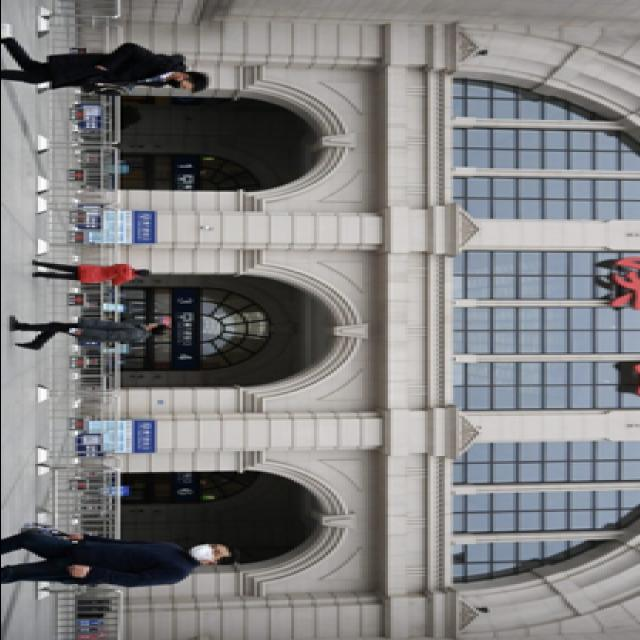with_mask: (190, 542, 228, 564), (165, 77, 193, 91)
